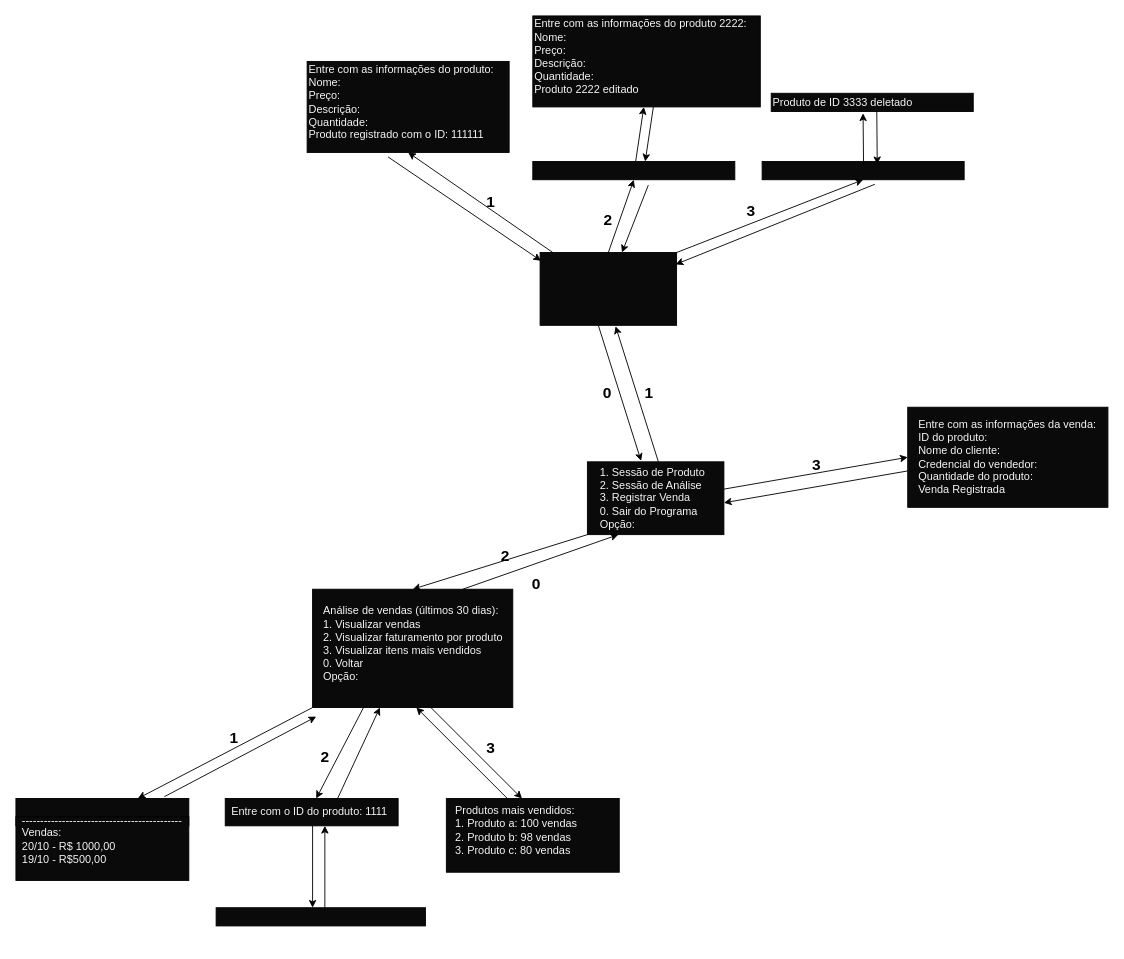
The diagram is 1124 pixels wide and 959 high, and some of its shapes have lost their labels. Here are the shapes that lost their labels. From the top down, the centre of each, then its label:
point (633, 170): Entre com o ID do produto: 2222
point (862, 170): Entre com o ID do produto: 3333
point (608, 288): 1. Registrar Produto 2. Editar Produto 3. Deletar Produto 0. Voltar Opção:
point (102, 812): Faturamento total: R$ 1000,00
point (320, 916): O produto de ID 1111 faturou: R$ 100,00
